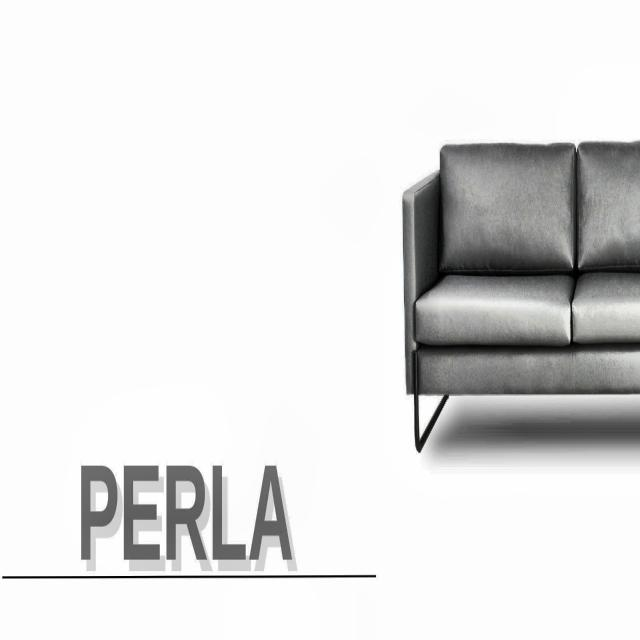sofa: (402, 138, 640, 452)
